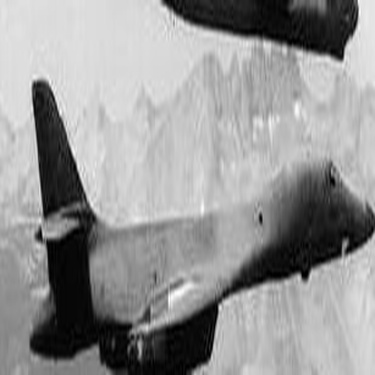airplane: (15, 68, 373, 373), (145, 5, 362, 66)
